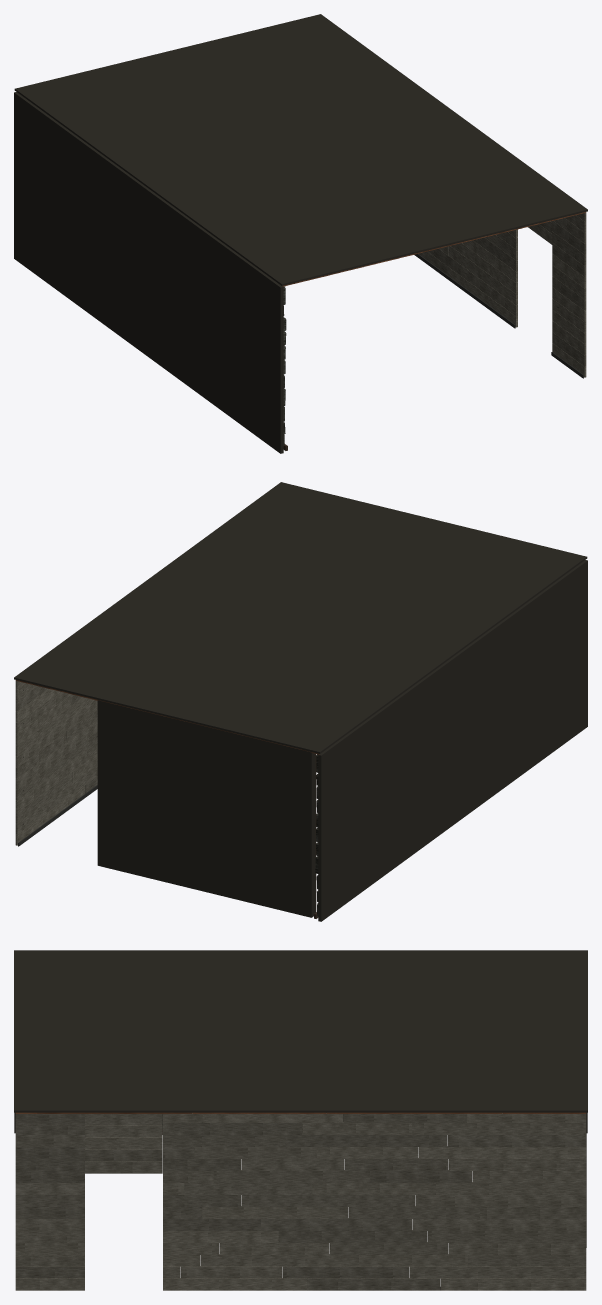
File: cinema-architecture.glb
The picture shows the model from 3 angles, top to bottom: view 1: azimuth 30°, elevation 25°; view 2: azimuth 150°, elevation 25°; view 3: azimuth 270°, elevation 25°; orthographic projection. The views are drawn at different scales.
Visible parts, largest first — view 1: Deep joints, Concrete, Blackened aluminium; view 2: Deep joints, Concrete; view 3: Deep joints, Concrete, Walnut.
Part boxes in pixels (x1,y1,x2,y2): Deep joints: (14,14,587,453); Concrete: (418,213,586,377); Blackened aluminium: (414,254,583,378); Deep joints: (14,482,587,921); Concrete: (15,681,97,845); Deep joints: (14,950,587,1247); Concrete: (15,1113,586,1290); Walnut: (15,1112,586,1113).
Size of the model in its own units: 7.89 by 4.16 by 11.88.
Materials: 8 (3 with a texture image).
